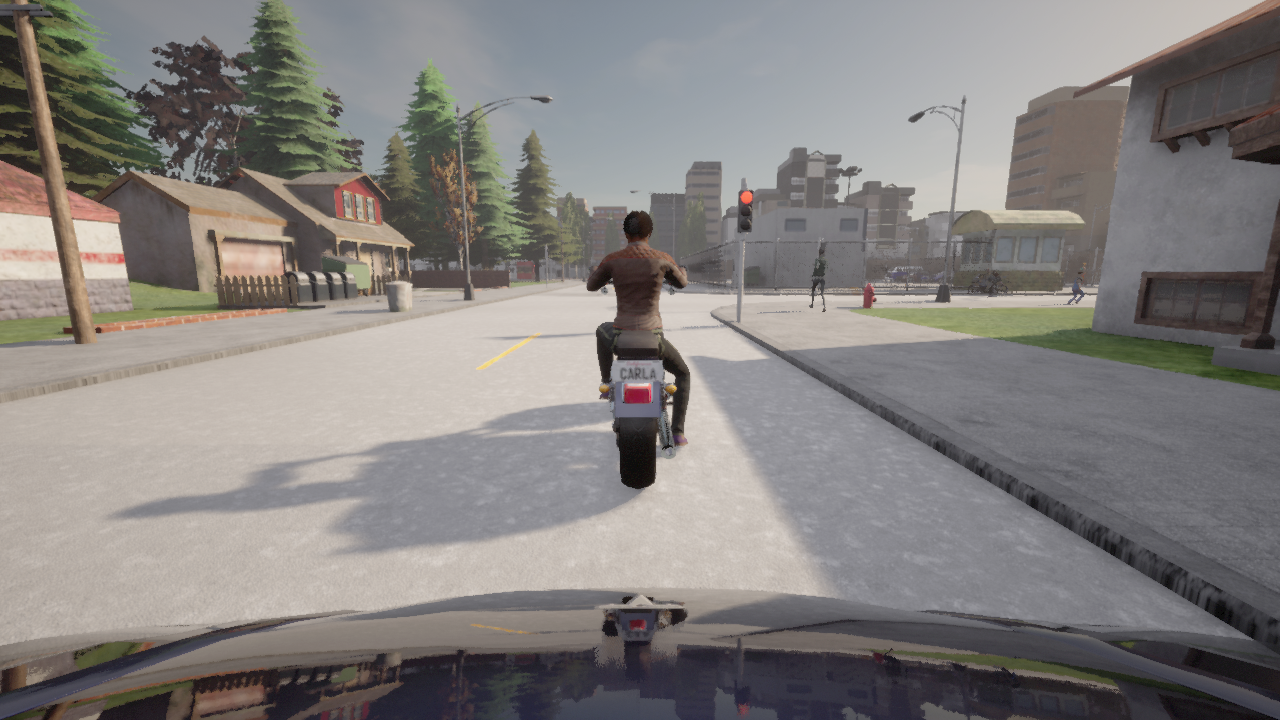cyclist: (0, 588, 1279, 719), (587, 264, 688, 488), (966, 273, 1011, 296), (885, 267, 922, 281), (896, 272, 935, 282), (929, 270, 956, 282), (909, 270, 931, 282), (947, 273, 954, 283)
pedestrian: (807, 249, 828, 312), (1067, 271, 1084, 305), (1077, 262, 1086, 286)
